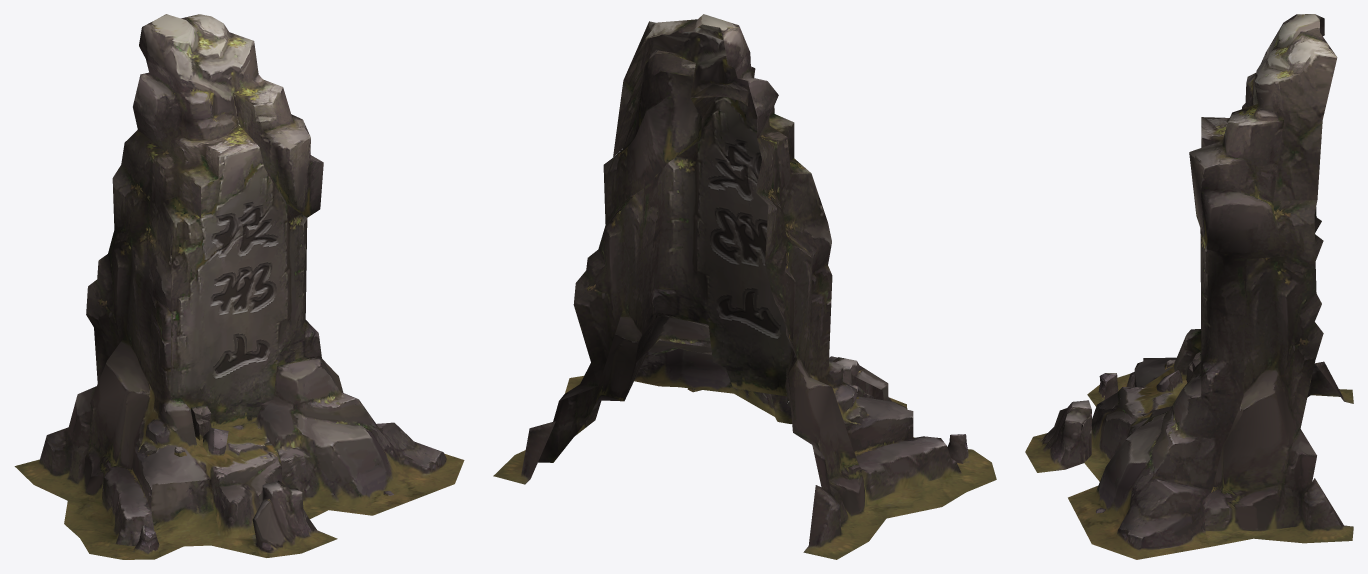
3 renders of one model, left to right at view 1: azimuth 30°, elevation 25°; view 2: azimuth 150°, elevation 25°; view 3: azimuth 270°, elevation 25°, orthographic. The views are drawn at different scales.
Visible parts, largest first — view 1: MB0002_21; view 2: MB0002_21; view 3: MB0002_21.
Part boxes in pixels (x1,y1,x2,y2): MB0002_21: [14, 14, 464, 559]; MB0002_21: [493, 14, 996, 559]; MB0002_21: [1025, 14, 1353, 559].
Size of the model in its own units: 3.38 by 3.69 by 2.51.
